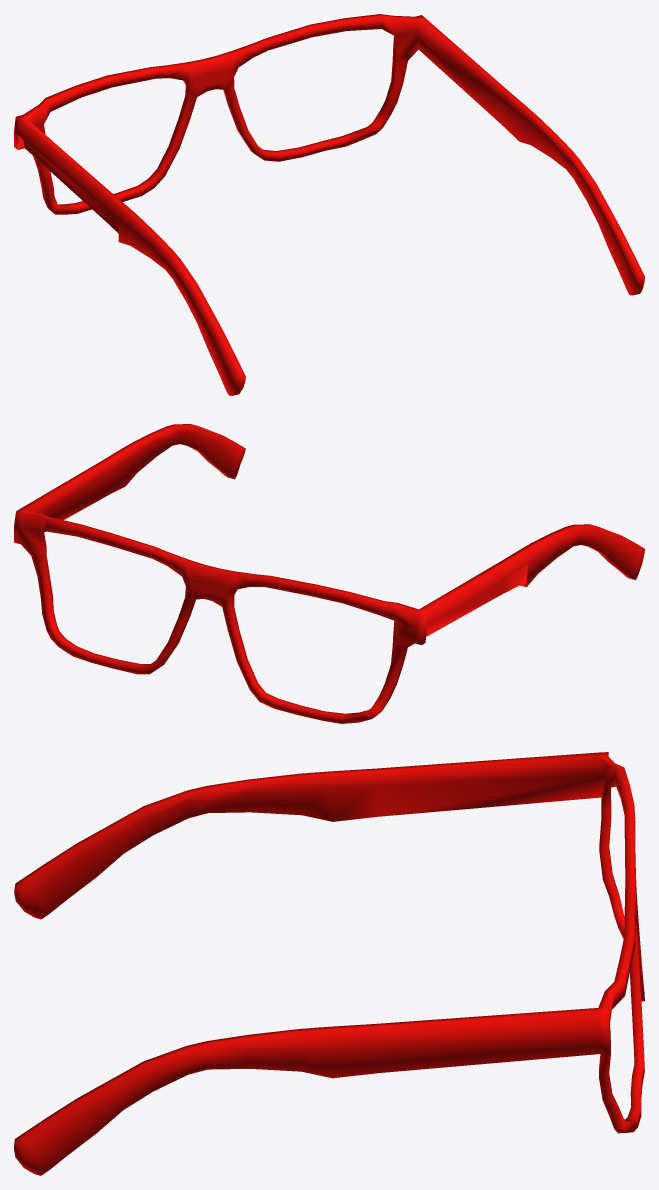
File: sunglasses_guci.fbx
The picture shows the model from 3 angles, top to bottom: view 1: azimuth 30°, elevation 25°; view 2: azimuth 150°, elevation 25°; view 3: azimuth 270°, elevation 25°; orthographic projection. The views are drawn at different scales.
Parts seen in each view (by area): view 1: Cube.001; view 2: Cube.001; view 3: Cube.001.
Boxes of the visible parts, x1,y1,x2,y2 form: Cube.001: [14, 14, 644, 395]; Cube.001: [14, 424, 644, 723]; Cube.001: [14, 752, 644, 1175].
Bounding box in the file's own units: 15.24 × 4.75 × 15.3.
